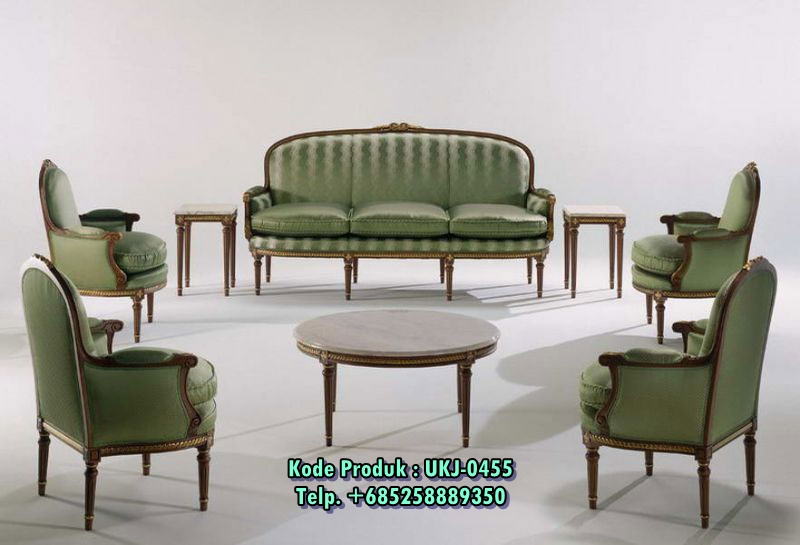Carving Chair: (11, 257, 237, 510), (239, 125, 553, 298), (603, 267, 783, 528), (31, 157, 167, 333), (637, 163, 756, 326)
Carving Table: (298, 306, 523, 460), (558, 196, 627, 306), (173, 199, 250, 295)
